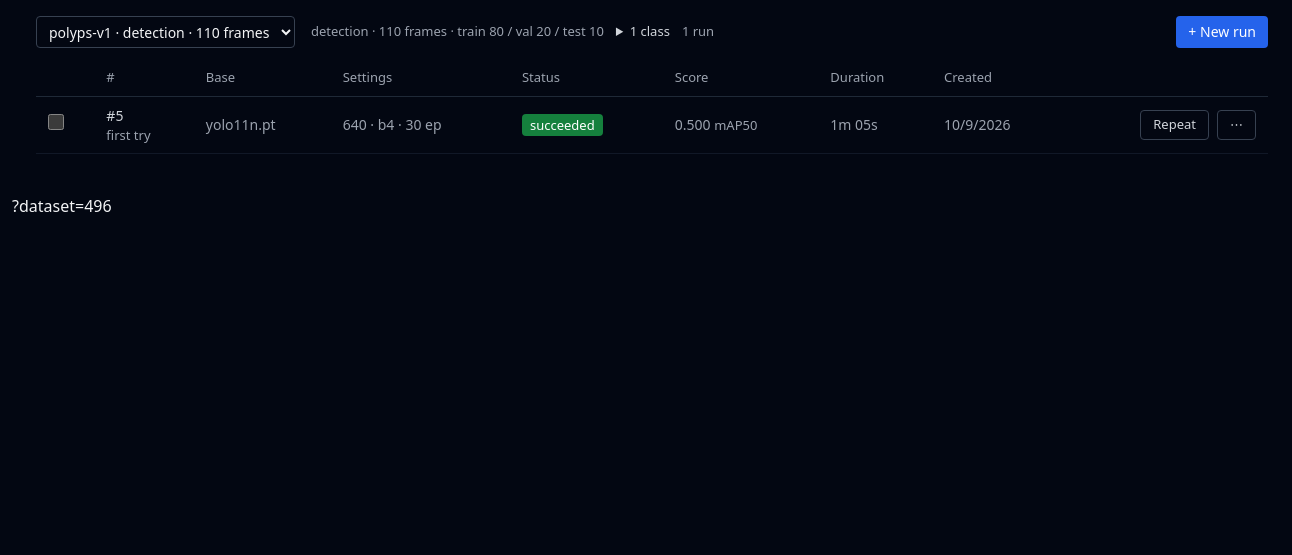
Test: TrainPage › New run tab › shows the server's message when starting fails
Expected: the text "first try" is shown, [106,126,151,144]
Click the button "+ New run" at (1222, 32), box [1176,16,1268,48]
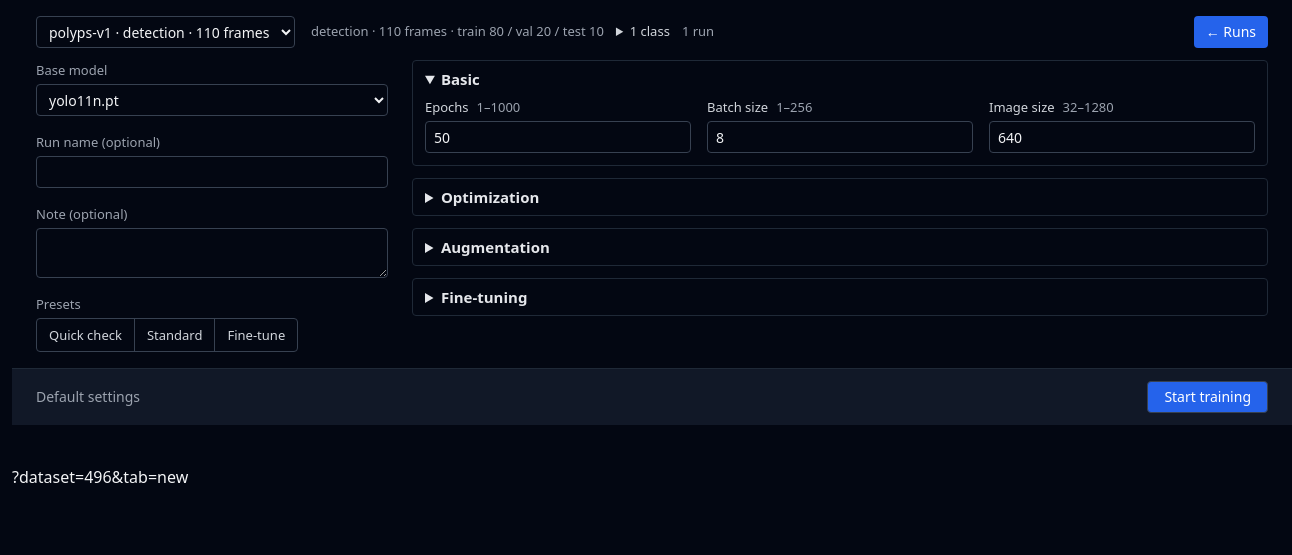
Result: the button "Start training" is enabled
Click the button "Start training" at (1208, 397), box [1147,381,1268,413]
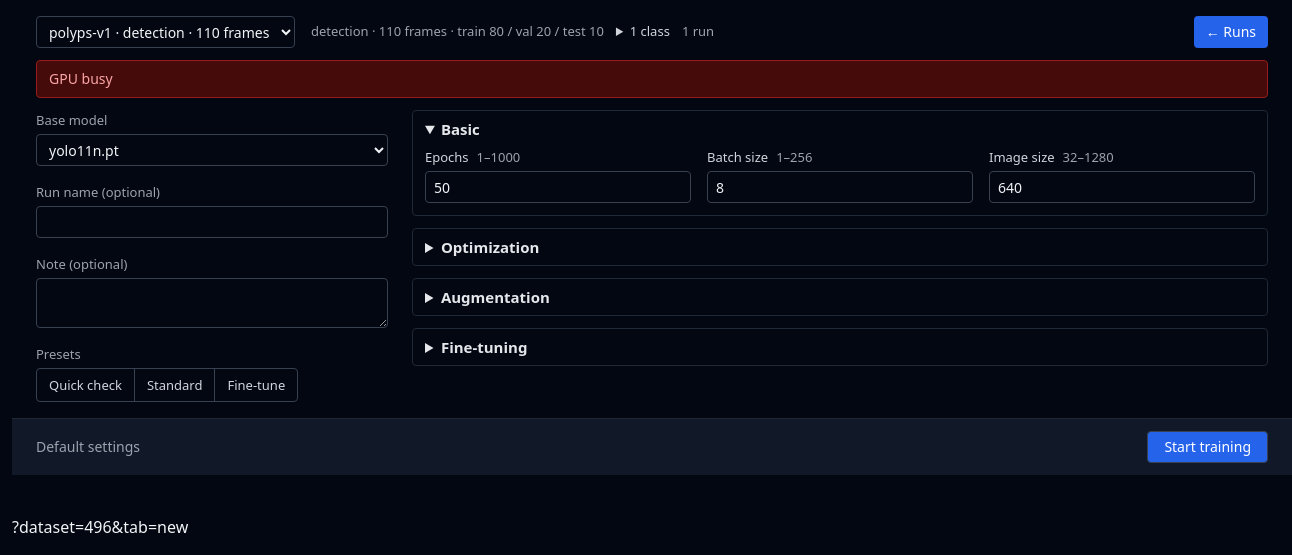
Result: the text with test id "where" reads "?dataset=496&tab=new" at [12,516,188,538]
Result: the message reads "GPU busy" at [49,69,113,88]
